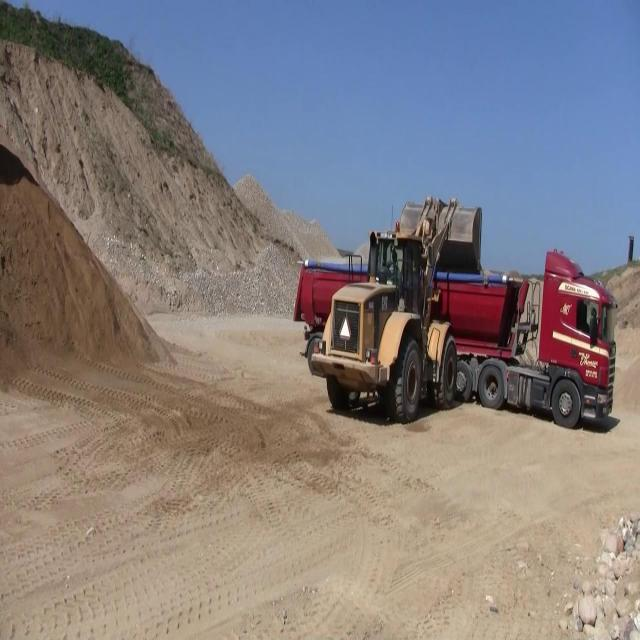Dump Truck: (293, 246, 621, 432)
Loader: (311, 194, 483, 428)
